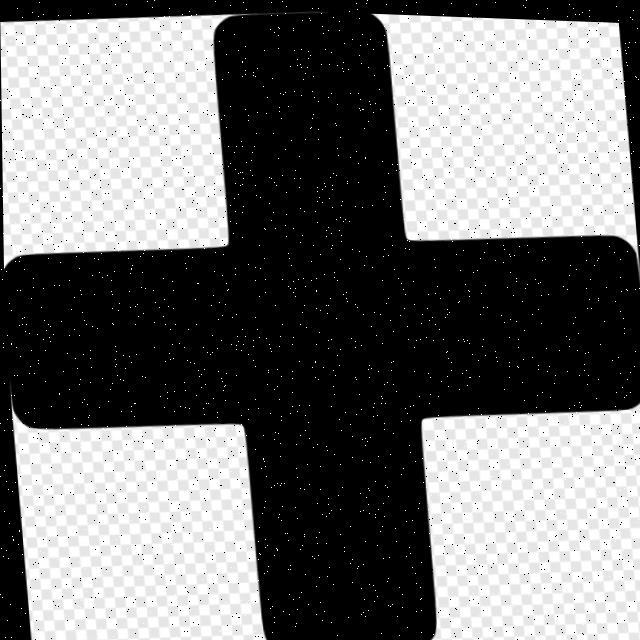cross: (17, 29, 626, 640)
